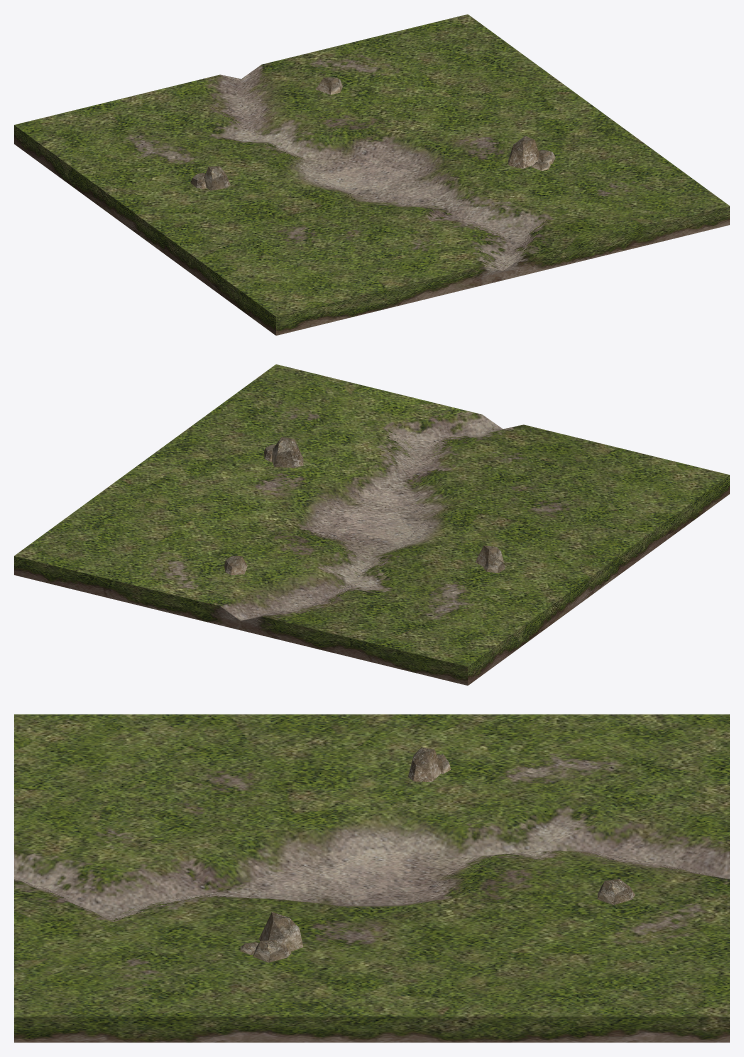
File: map001.FBX
The picture shows the model from 3 angles, top to bottom: view 1: azimuth 30°, elevation 25°; view 2: azimuth 150°, elevation 25°; view 3: azimuth 270°, elevation 25°; orthographic projection. The views are drawn at different scales.
Visible parts, largest first — view 1: map001, Box051; view 2: map001, Box051; view 3: map001, Box051.
Boxes of the visible parts, x1,y1,x2,y2 form: map001: (14, 14, 729, 335); Box051: (190, 77, 555, 190); map001: (14, 364, 729, 685); Box051: (224, 437, 505, 575); map001: (14, 714, 729, 1042); Box051: (240, 747, 634, 962).
Bounding box in the file's own units: 100 × 8.6 × 100.
